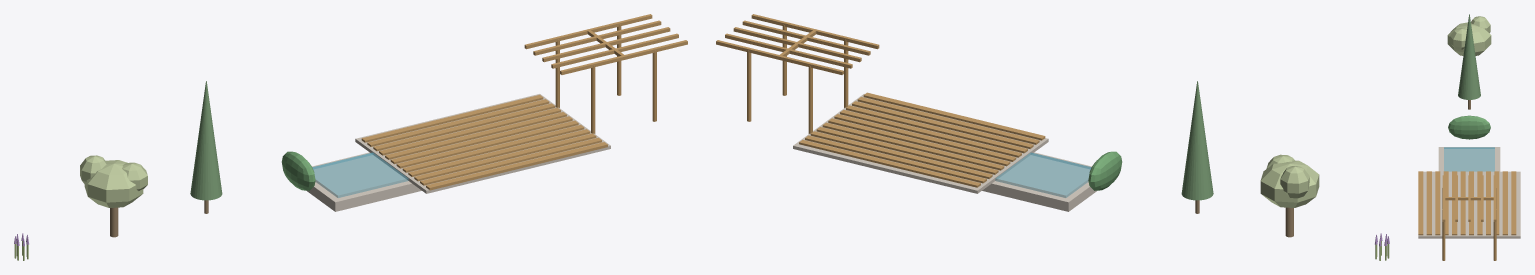
Rendered from garden-assets.glb.
3 renders of one model, left to right at view 1: azimuth 30°, elevation 25°; view 2: azimuth 150°, elevation 25°; view 3: azimuth 270°, elevation 25°, orthographic. The views are drawn at different scales.
Visible parts, largest first — view 1: Pool_Walls, Terrace_Base, Pool_Water, Cyp_Canopy, Olive_Can, Deck_Board_0, Deck_Board_9, Deck_Board_3, Deck_Board_5, Deck_Board_10, Deck_Board_2, Deck_Board_6 (+13 smaller); view 2: Pool_Walls, Terrace_Base, Pool_Water, Cyp_Canopy, Olive_Can, Deck_Board_0, Deck_Board_7, Deck_Board_9, Deck_Board_1, Deck_Board_3, Deck_Board_5, Deck_Board_6 (+12 smaller); view 3: Terrace_Base, Pool_Walls, Pool_Water, Cyp_Canopy, Hedge_1m, Olive_Can, Deck_Board_0, Deck_Board_1, Deck_Board_2, Deck_Board_10, Deck_Board_11, Deck_Board_5 (+16 smaller).
Part boxes in pixels (x1,y1,x2,y2): Pool_Walls: (306,152,421,211); Terrace_Base: (355,94,610,193); Pool_Water: (312,152,408,197); Cyp_Canopy: (190,81,222,200); Olive_Can: (84,160,143,207); Deck_Board_0: (426,142,607,190); Deck_Board_9: (373,103,555,151); Deck_Board_3: (408,129,590,176); Deck_Board_5: (396,120,578,168); Deck_Board_10: (367,99,549,146); Deck_Board_2: (414,133,596,181); Deck_Board_6: (390,116,572,164); Pool_Walls: (982,152,1097,211); Terrace_Base: (793,94,1048,193); Pool_Water: (995,152,1091,197); Cyp_Canopy: (1181,81,1213,200); Olive_Can: (1260,160,1319,207); Deck_Board_0: (863,92,1045,140); Deck_Board_7: (822,122,1004,170); Deck_Board_9: (810,131,992,178); Deck_Board_1: (857,97,1039,144); Deck_Board_3: (846,105,1027,153); Deck_Board_5: (834,114,1016,161); Deck_Board_6: (828,118,1010,166); Terrace_Base: (1418,171,1520,238); Pool_Walls: (1438,147,1500,171); Pool_Water: (1444,147,1494,171); Cyp_Canopy: (1458,14,1480,99); Hedge_1m: (1448,115,1490,139); Olive_Can: (1447,22,1491,55); Deck_Board_0: (1418,171,1423,235); Deck_Board_1: (1426,171,1431,235); Deck_Board_2: (1435,171,1440,235); Deck_Board_10: (1502,171,1507,235); Deck_Board_11: (1511,171,1516,235); Deck_Board_5: (1460,171,1465,235).
Bounding box in the file's own units: 21.25 × 4.4 × 4.
